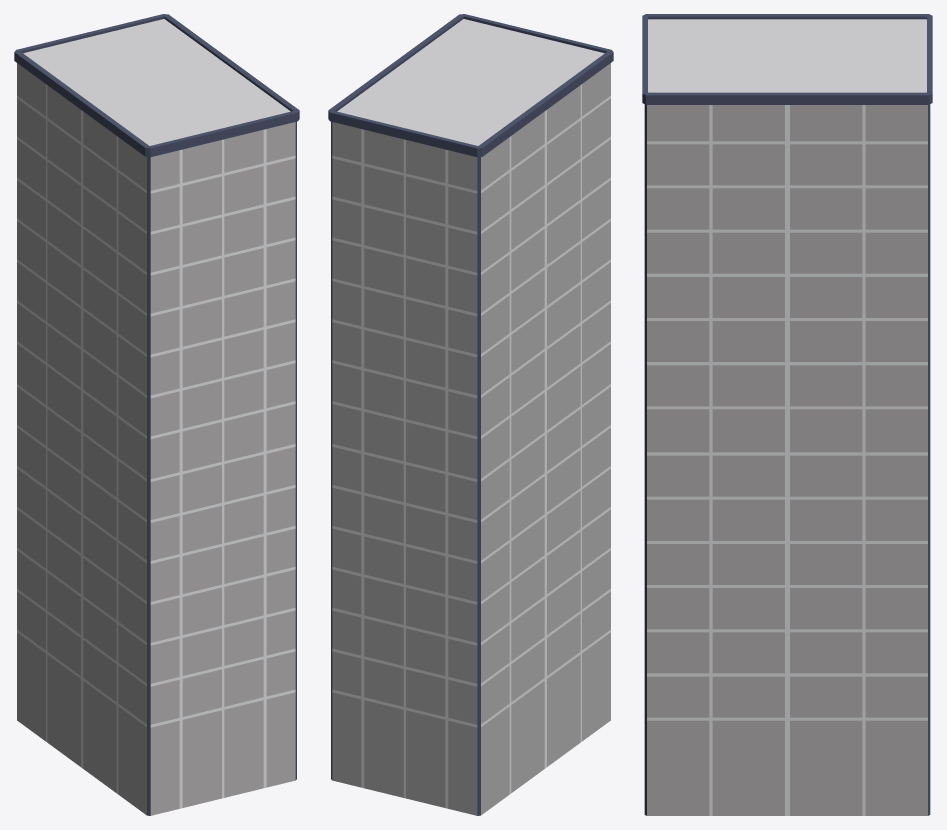
File: Building_10.fbx
The picture shows the model from 3 angles, left to right: view 1: azimuth 30°, elevation 25°; view 2: azimuth 150°, elevation 25°; view 3: azimuth 270°, elevation 25°; orthographic projection. The views are drawn at different scales.
Parts seen in each view (by area): view 1: Building_10; view 2: Building_10; view 3: Building_10.
Boxes of the visible parts, x1,y1,x2,y2 form: Building_10: (14, 14, 299, 815); Building_10: (328, 14, 613, 815); Building_10: (642, 14, 932, 815).
Bounding box in the file's own units: 2730 × 11305 × 4125.
